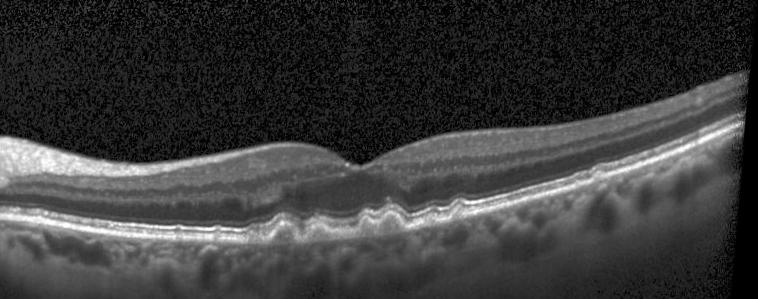retinal_drusen: (275, 224, 300, 248), (383, 214, 406, 234), (313, 227, 337, 242), (365, 217, 383, 235), (250, 232, 268, 244), (596, 173, 610, 183), (347, 226, 358, 238), (456, 207, 465, 220), (430, 214, 440, 225), (179, 232, 187, 241), (218, 234, 223, 241), (338, 231, 343, 237), (579, 182, 584, 188), (359, 230, 364, 235)
